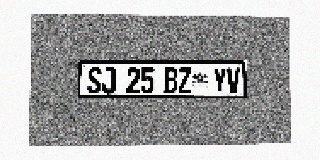2: (127, 67, 140, 93)
5: (141, 67, 154, 93)
B: (164, 68, 178, 93)
J: (102, 67, 116, 93)
S: (87, 67, 101, 93)
V: (227, 68, 240, 93)
Y: (213, 68, 226, 93)
Z: (178, 68, 191, 93)
